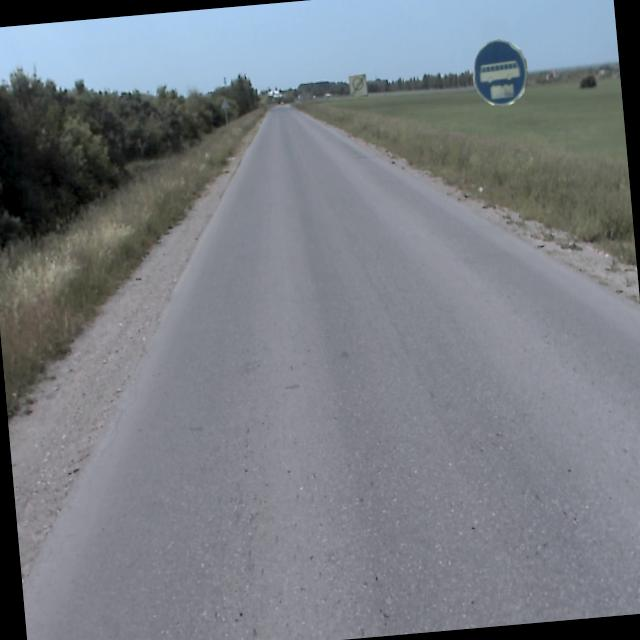road: (22, 105, 640, 640)
